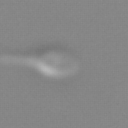normal: (1, 51, 37, 70)
